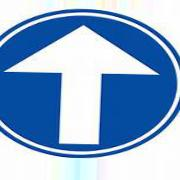forward: (2, 9, 179, 158)
